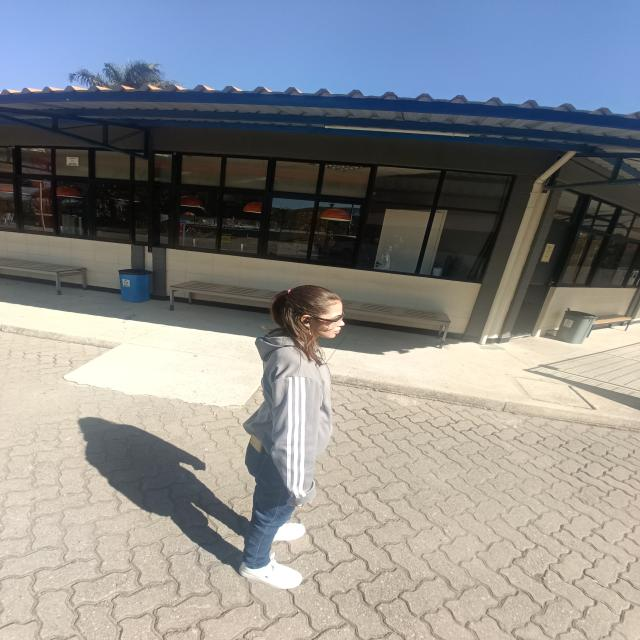oculos-epi: (311, 310, 346, 330)
